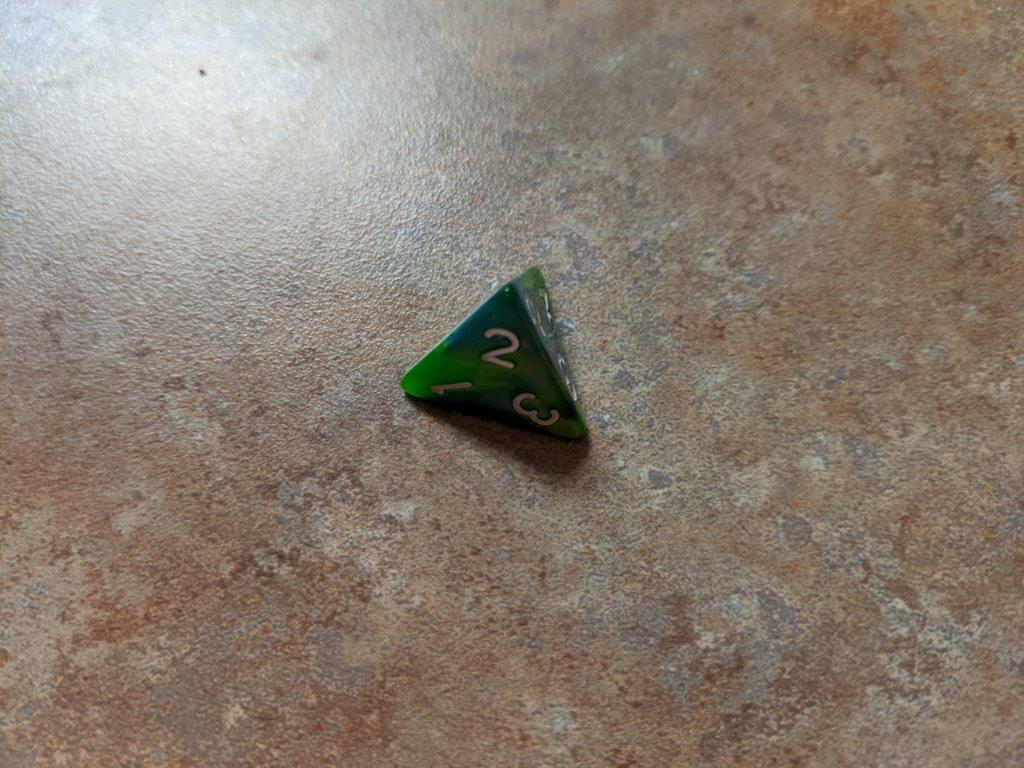d4-2: (402, 264, 592, 447)
